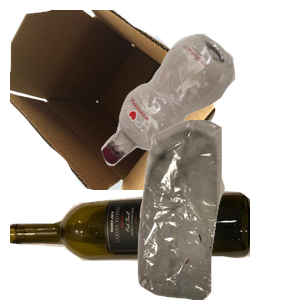cardboard: (10, 10, 218, 190)
glass: (10, 189, 250, 300)
plastic: (99, 31, 300, 189)
trash: (114, 120, 300, 300)
